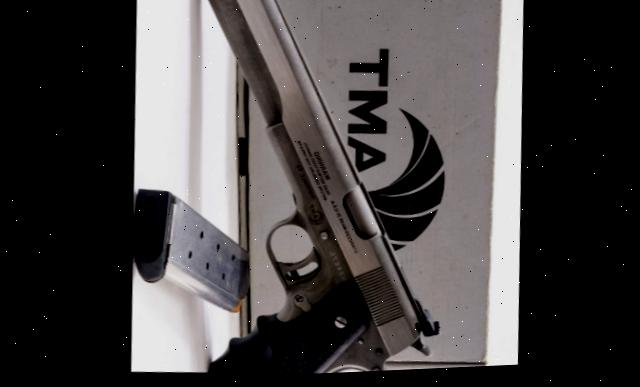pistol: (173, 0, 457, 381)
